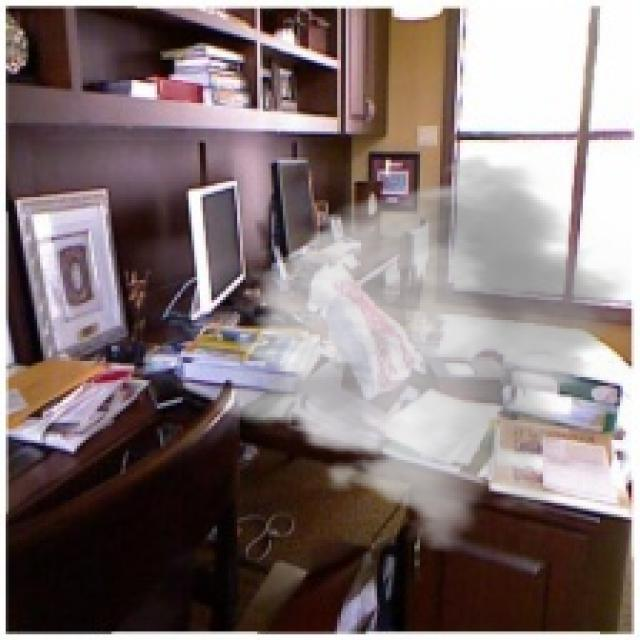smoke: (206, 155, 631, 554)
